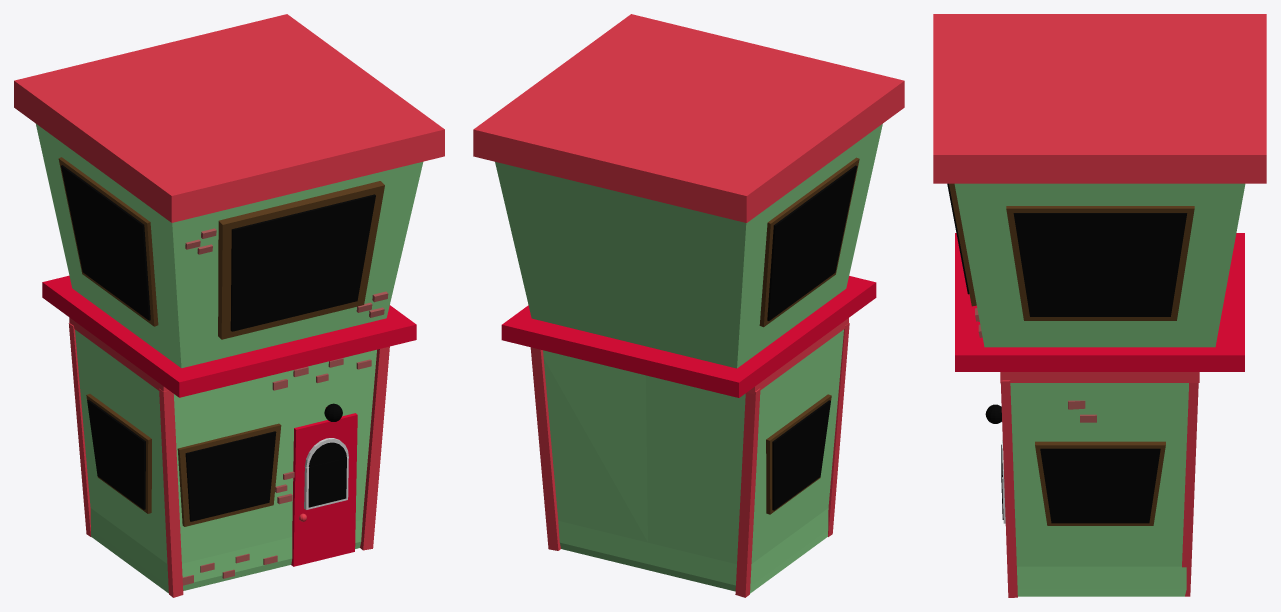
File: Building 2.fbx
The picture shows the model from 3 angles, left to right: view 1: azimuth 30°, elevation 25°; view 2: azimuth 150°, elevation 25°; view 3: azimuth 270°, elevation 25°; orthographic projection. The views are drawn at different scales.
Visible parts, largest first — view 1: polySurface20; view 2: polySurface20; view 3: polySurface20.
Boxes of the visible parts, left/top/right/bottom form: polySurface20: left=14, top=14, right=444, bottom=597; polySurface20: left=473, top=14, right=904, bottom=597; polySurface20: left=933, top=14, right=1266, bottom=597.
Size of the model in its own units: 34.05 by 52.01 by 34.05.
